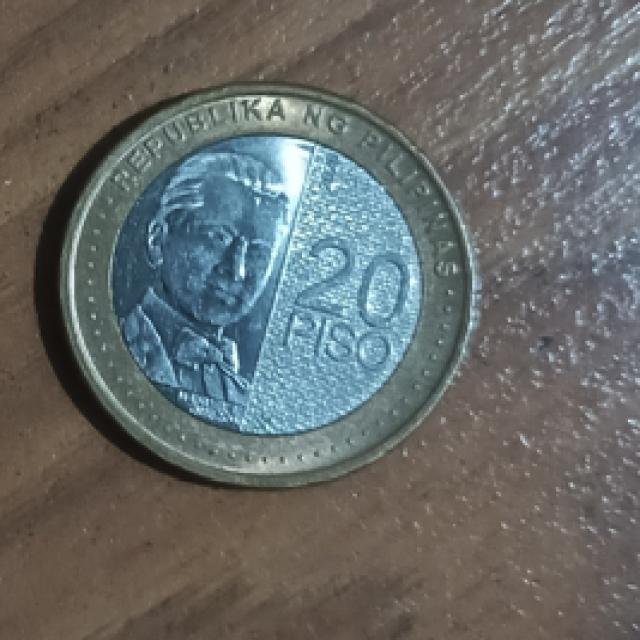20_peso: (60, 83, 472, 485)
